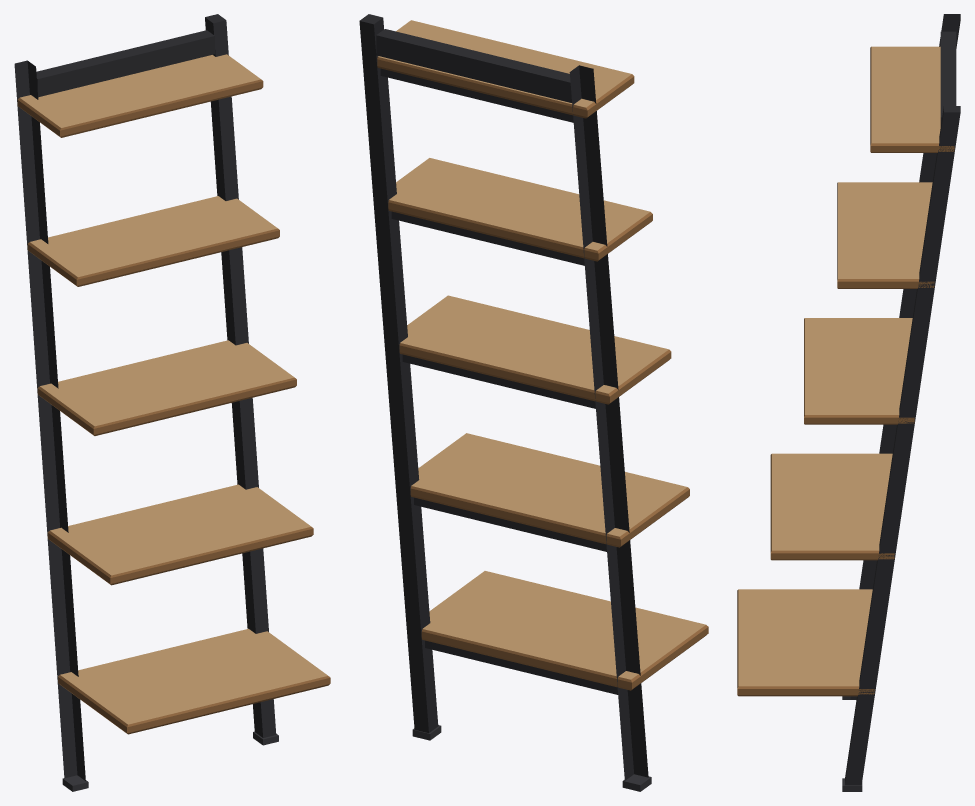
File: FN_Shelf_Ladder.glb
The picture shows the model from 3 angles, left to right: view 1: azimuth 30°, elevation 25°; view 2: azimuth 150°, elevation 25°; view 3: azimuth 270°, elevation 25°; orthographic projection. The views are drawn at different scales.
Parts seen in each view (by area): view 1: FN_Shelf_Ladder; view 2: FN_Shelf_Ladder; view 3: FN_Shelf_Ladder.
Boxes of the visible parts, box(x1,y1,x2,y2) form: FN_Shelf_Ladder: box(14, 14, 330, 791); FN_Shelf_Ladder: box(359, 14, 708, 791); FN_Shelf_Ladder: box(737, 14, 960, 791).
Bounding box in the file's own units: 0.568 × 1.8 × 0.5367.
1 material, 1 textured.
